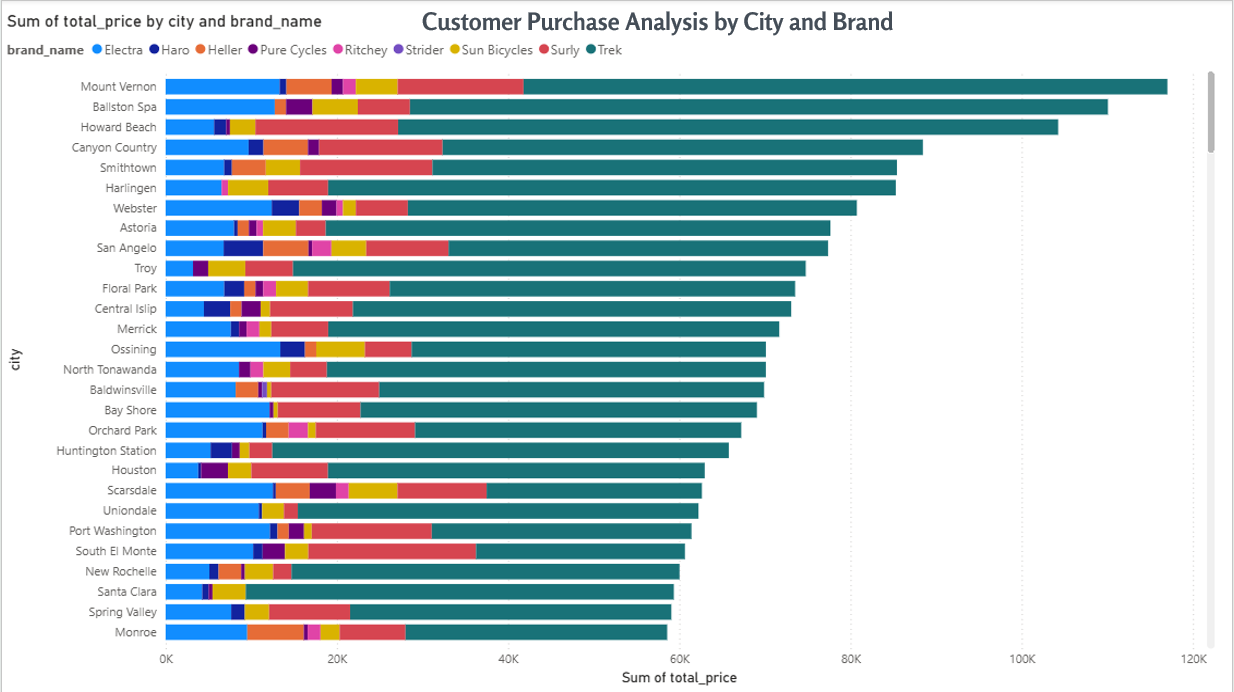

What the dashboard file says about the page in this screenshot:
{"tool":"powerbi","page":{"name":"Customer Purchase Analysis","canvas":[1280,720],"ordinal":3},"visuals":[{"type":"barChart","fields":{"Category":["customers.city"],"Y":["Sum(order_items.total_price)"],"Series":["brands.brand_name"]},"box":[33.8,43.8,1126.2,656.2],"z":0}]}

Visuals, with their boxes in screenshot pixels (x1, y1, x2, y2), scaled from the page's 1280x720 canvas onto the 1234x692 screenshot:
barChart - customers.city x Sum(order_items.total_price): BBox(33, 42, 1118, 673)
